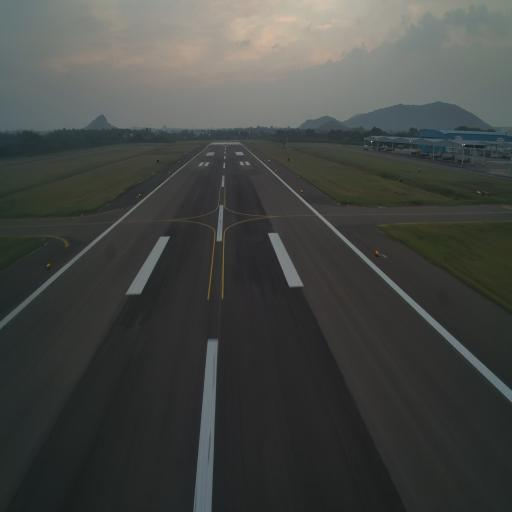on: (374, 246, 380, 256), (46, 262, 51, 270), (138, 192, 142, 199), (300, 188, 304, 194)
